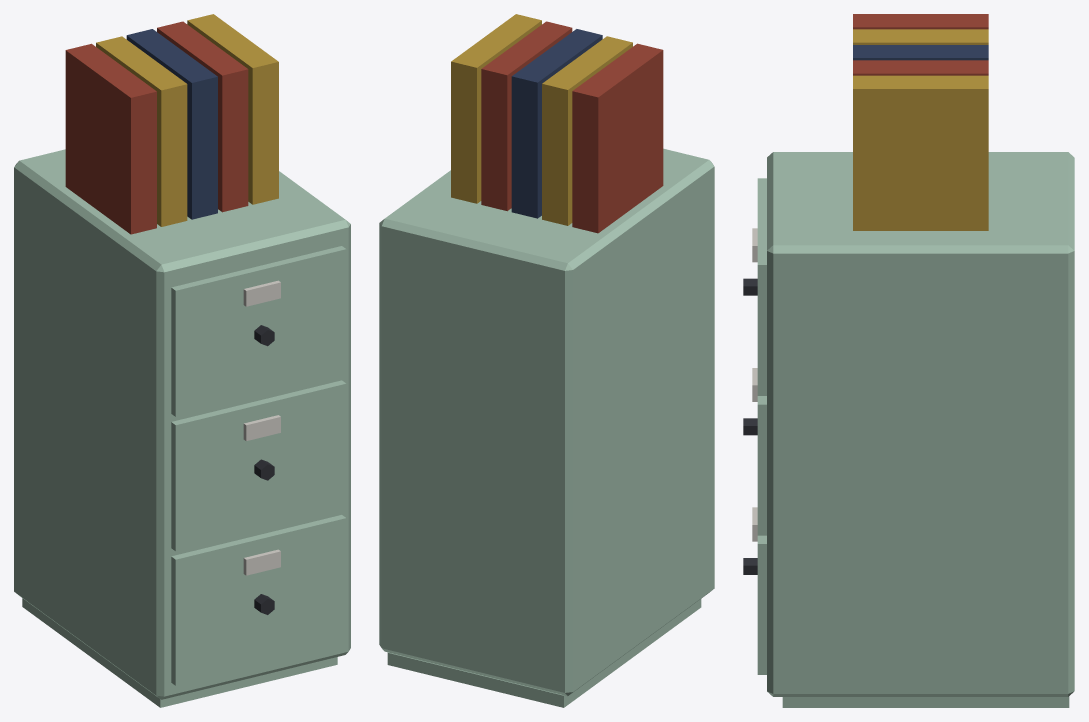
The model's file is filing-cabinet-16.glb.
The picture shows the model from 3 angles, left to right: view 1: azimuth 30°, elevation 25°; view 2: azimuth 150°, elevation 25°; view 3: azimuth 270°, elevation 25°; orthographic projection. The views are drawn at different scales.
Parts seen in each view (by area): view 1: filing_cabinet_16; view 2: filing_cabinet_16; view 3: filing_cabinet_16.
Boxes of the visible parts, box(x1,y1,x2,y2) form: filing_cabinet_16: box(14, 14, 350, 707); filing_cabinet_16: box(379, 14, 714, 707); filing_cabinet_16: box(743, 14, 1074, 707).
Bounding box in the file's own units: 0.4471 × 1.28 × 0.6345.
